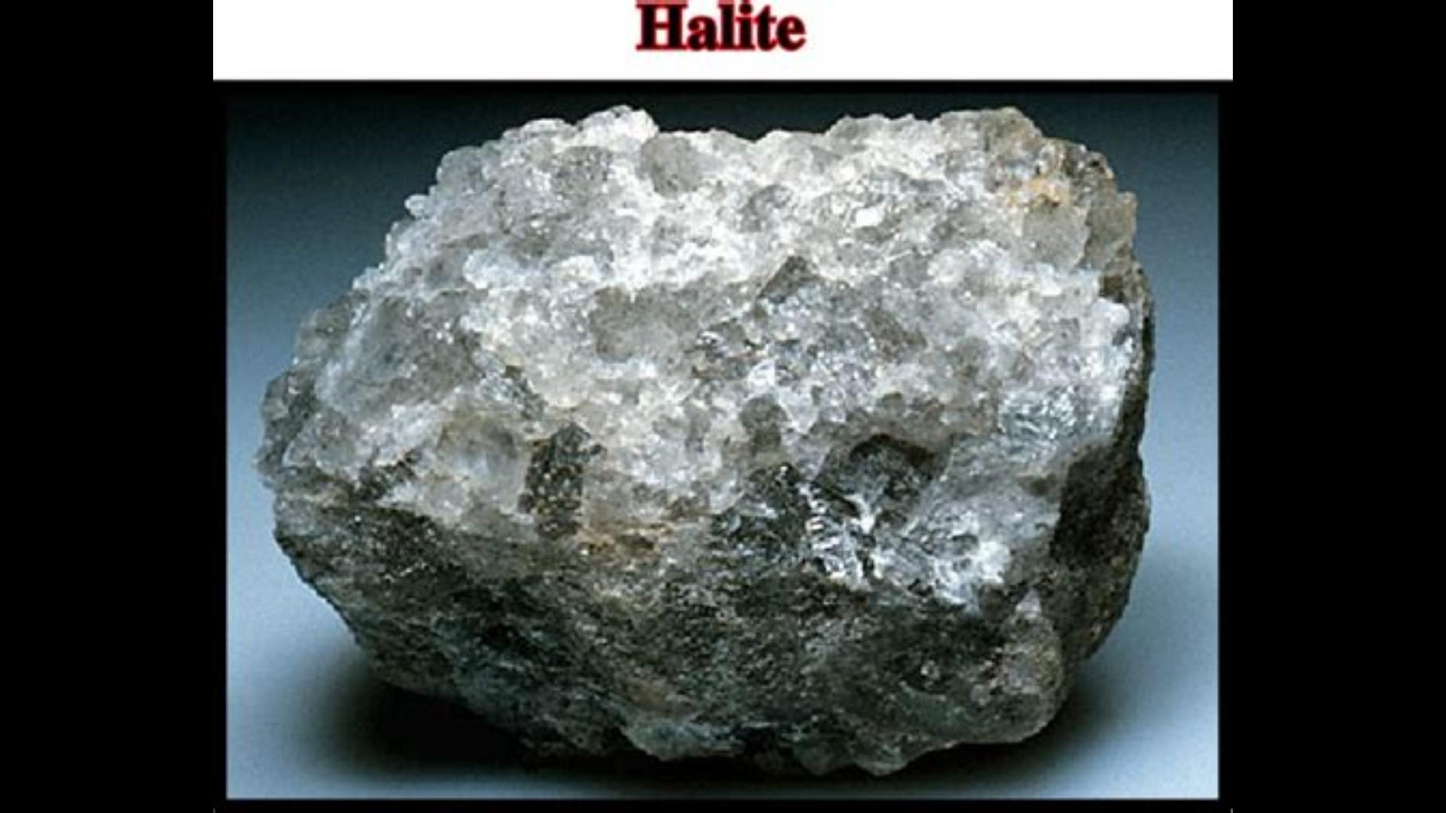rock: (258, 108, 1145, 774)
